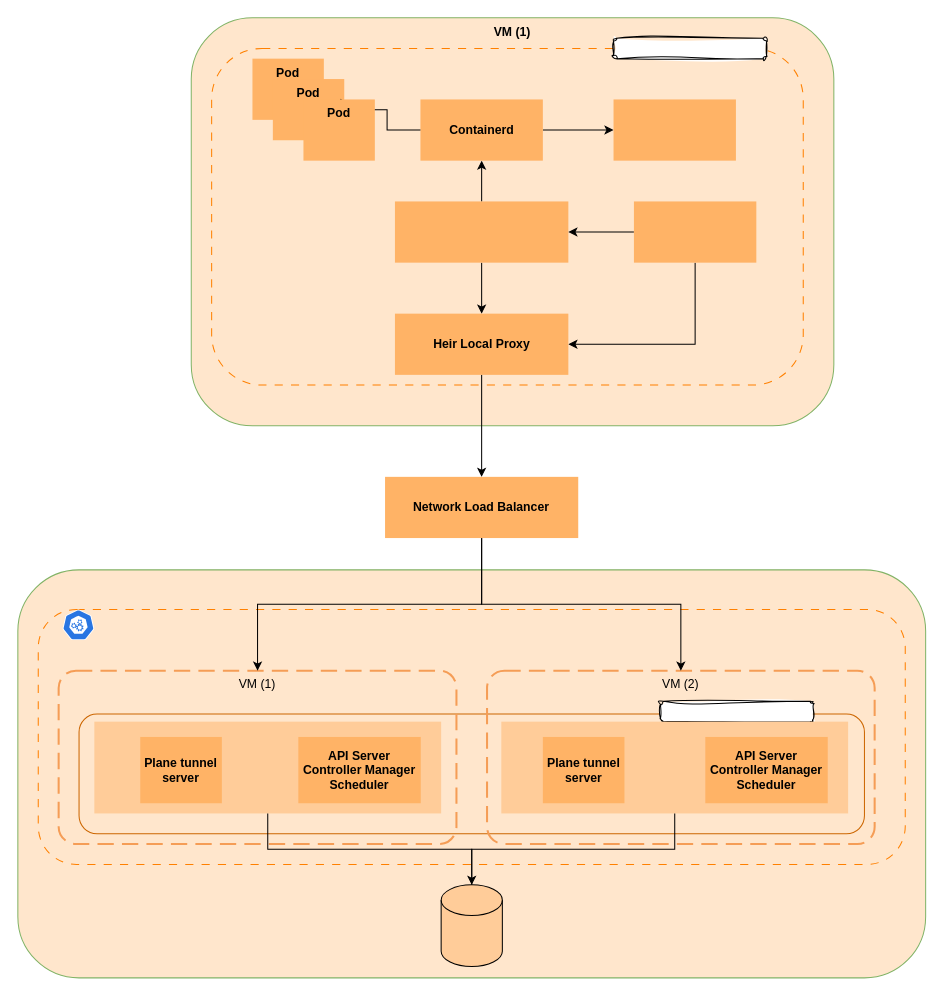
The diagram is 944 pixels wide and 997 high, and some of its shapes have lost their labels. Each missing label, with the box of its shape:
CNI: (613, 99, 735, 160)
Kubelet: (394, 201, 568, 262)
Management Cluster: (37, 608, 905, 864)
Namespace X: (659, 700, 813, 722)
Plane Tunnel Agent: (633, 201, 756, 262)
Process: (613, 37, 767, 59)
Storage: (440, 884, 502, 966)
